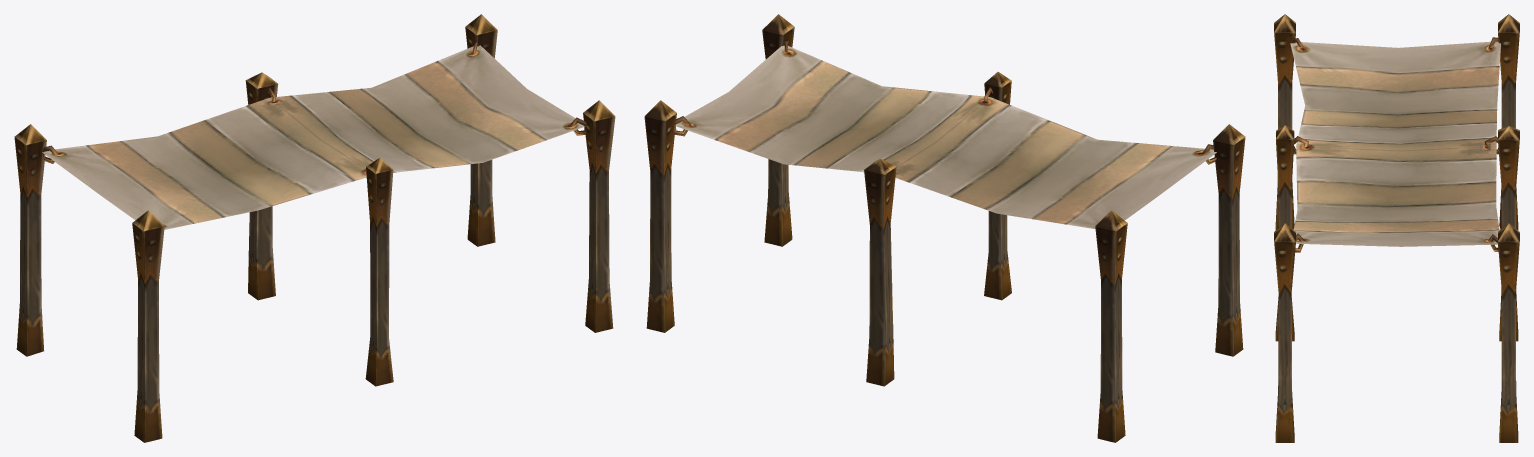
The model's file is Battle04_Market_04.FBX.
The picture shows the model from 3 angles, left to right: view 1: azimuth 30°, elevation 25°; view 2: azimuth 150°, elevation 25°; view 3: azimuth 270°, elevation 25°; orthographic projection. The views are drawn at different scales.
Visible parts, largest first — view 1: Battle04_Market_04; view 2: Battle04_Market_04; view 3: Battle04_Market_04.
Part boxes in pixels (box(x1,y1,x2,y2)): Battle04_Market_04: box(14, 14, 615, 442); Battle04_Market_04: box(644, 14, 1245, 442); Battle04_Market_04: box(1274, 14, 1519, 442).
Bounding box in the file's own units: 8.02 × 3.69 × 3.81.
